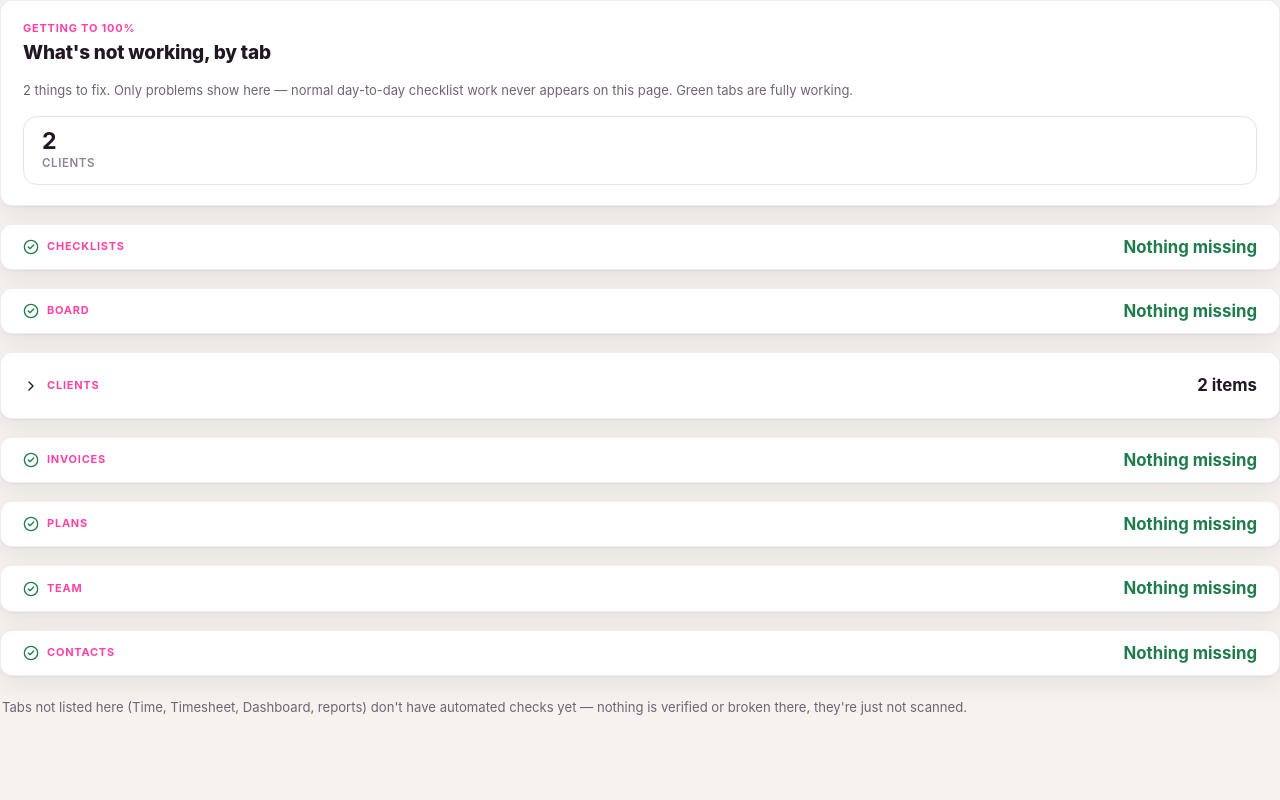
Scenario: SetupChecklistPage plan checklist nudges › falls back to one nudge per plan when the packages fetch fails
Click the button with class "setup-cat-header" showing "Clients 2 items". click: [73, 385]
box: left=23, top=373, right=1257, bottom=398
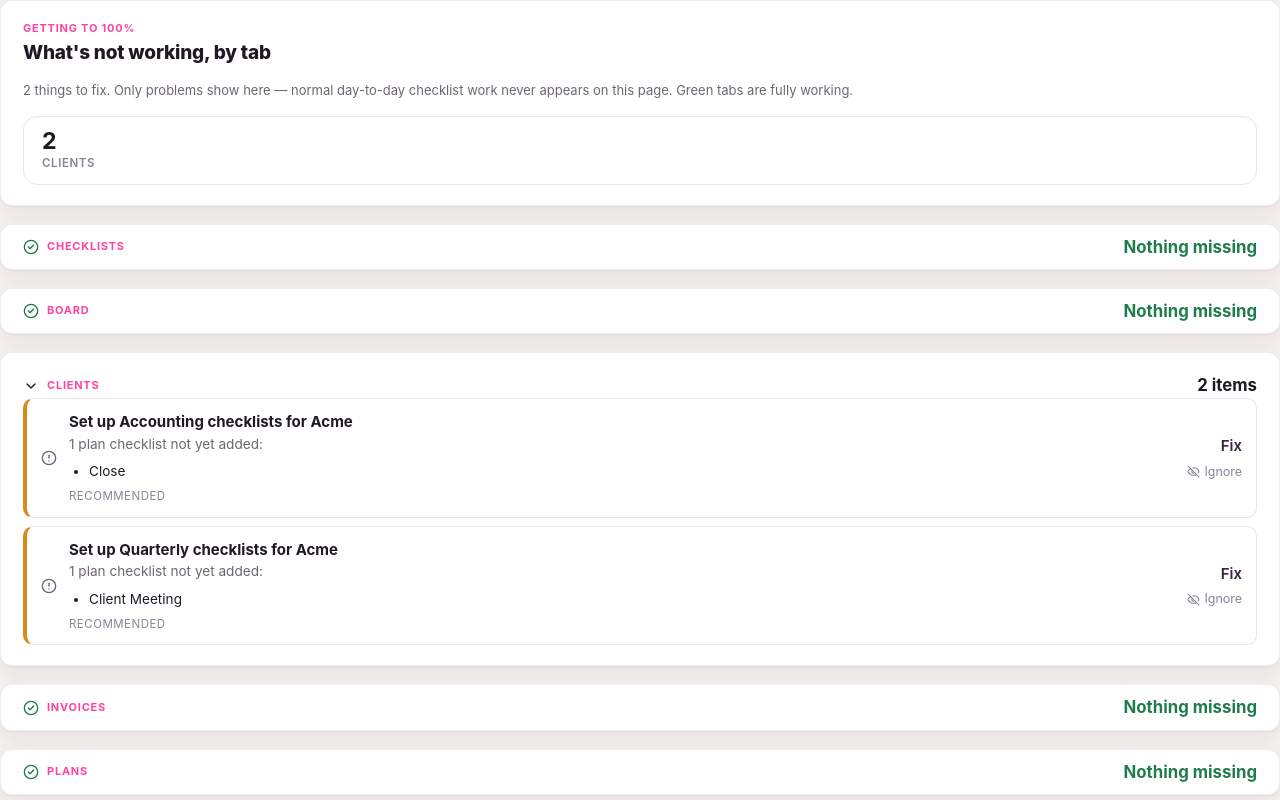
expect the text "Set up Accounting checklists for Acme" is shown: met, box left=69, top=412, right=353, bottom=431
